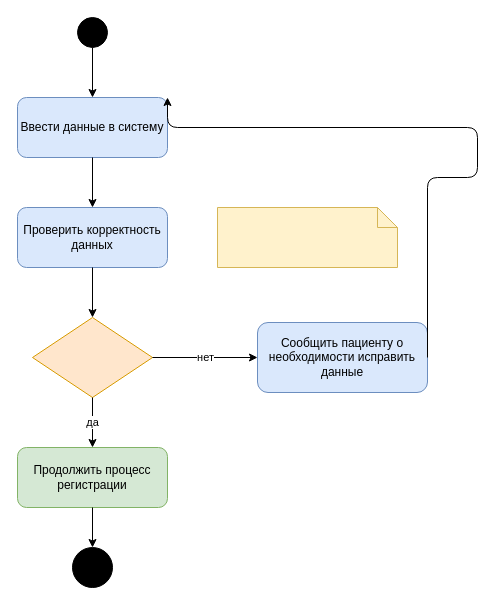
Image size: 503x605. Some labels were removed from this diagram. The centre of each missing label's shape, as x and y in pixels:
Данные корректны?: pixel 92 357
Проверка выполняется автоматически информационной системой: pixel 307 237
